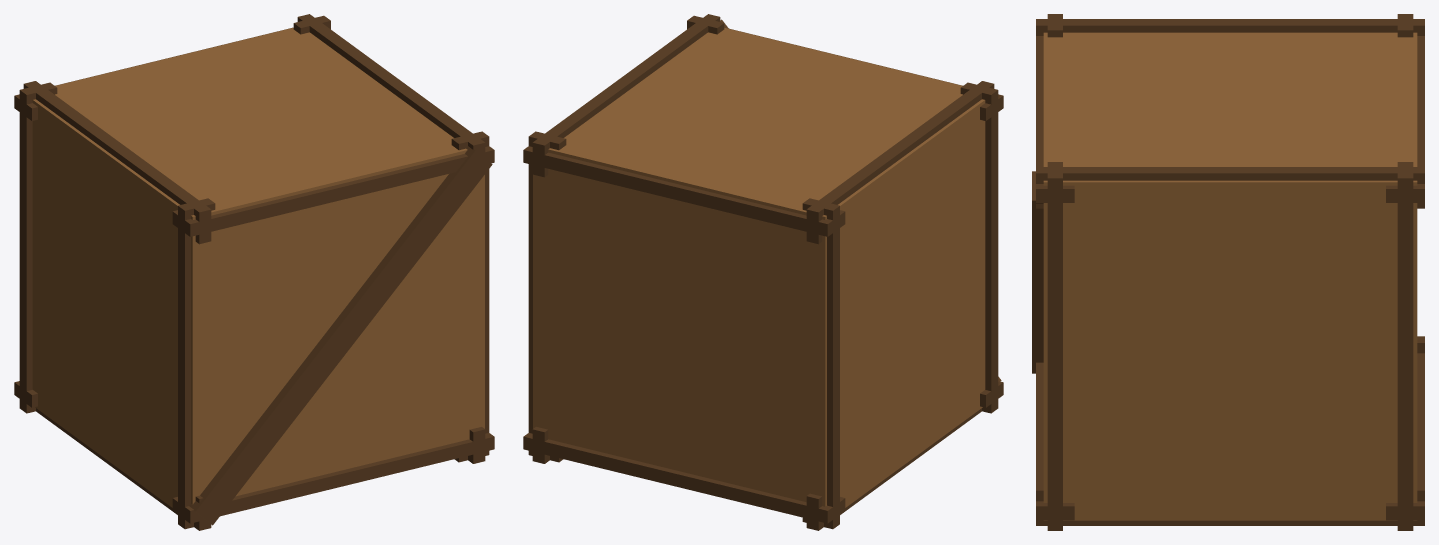
File: crate.glb
3 views of the same model, side by side, from view 1: azimuth 30°, elevation 25°; view 2: azimuth 150°, elevation 25°; view 3: azimuth 270°, elevation 25° (orthographic). The views are drawn at different scales.
Parts seen in each view (by area): view 1: wood-col, wood_dark; view 2: wood-col, wood_dark; view 3: wood-col, wood_dark.
Part boxes in pixels (left/top/right/bottom): wood-col: left=32, top=28, right=484, bottom=507; wood_dark: left=14, top=14, right=494, bottom=530; wood-col: left=533, top=28, right=985, bottom=507; wood_dark: left=523, top=14, right=1003, bottom=530; wood-col: left=1043, top=32, right=1417, bottom=520; wood_dark: left=1032, top=14, right=1424, bottom=530.
Size of the model in its own units: 1 by 1 by 1.01.
